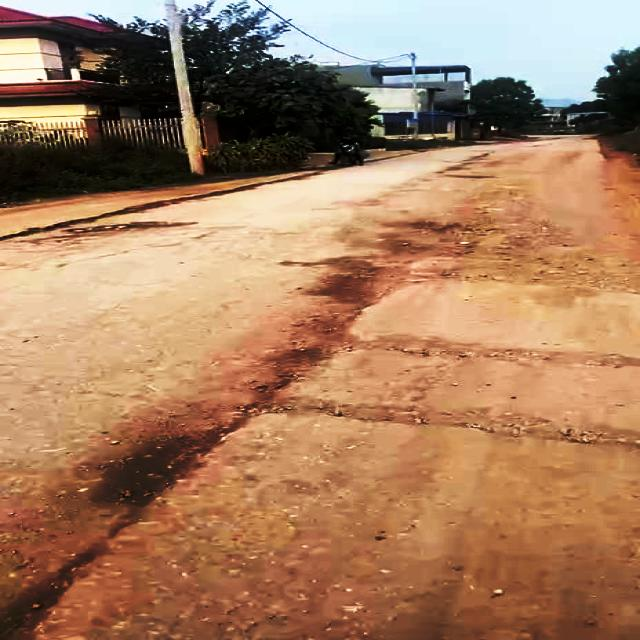pothole: (251, 398, 640, 451), (318, 321, 640, 378), (60, 220, 184, 237)
